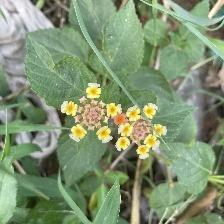common lanthana: (59, 81, 168, 160)
